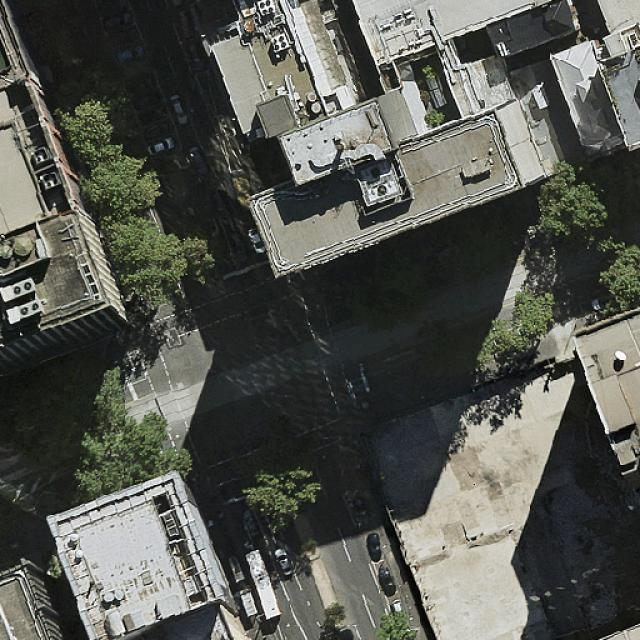Bike-Symbols: (350, 383, 366, 395)
